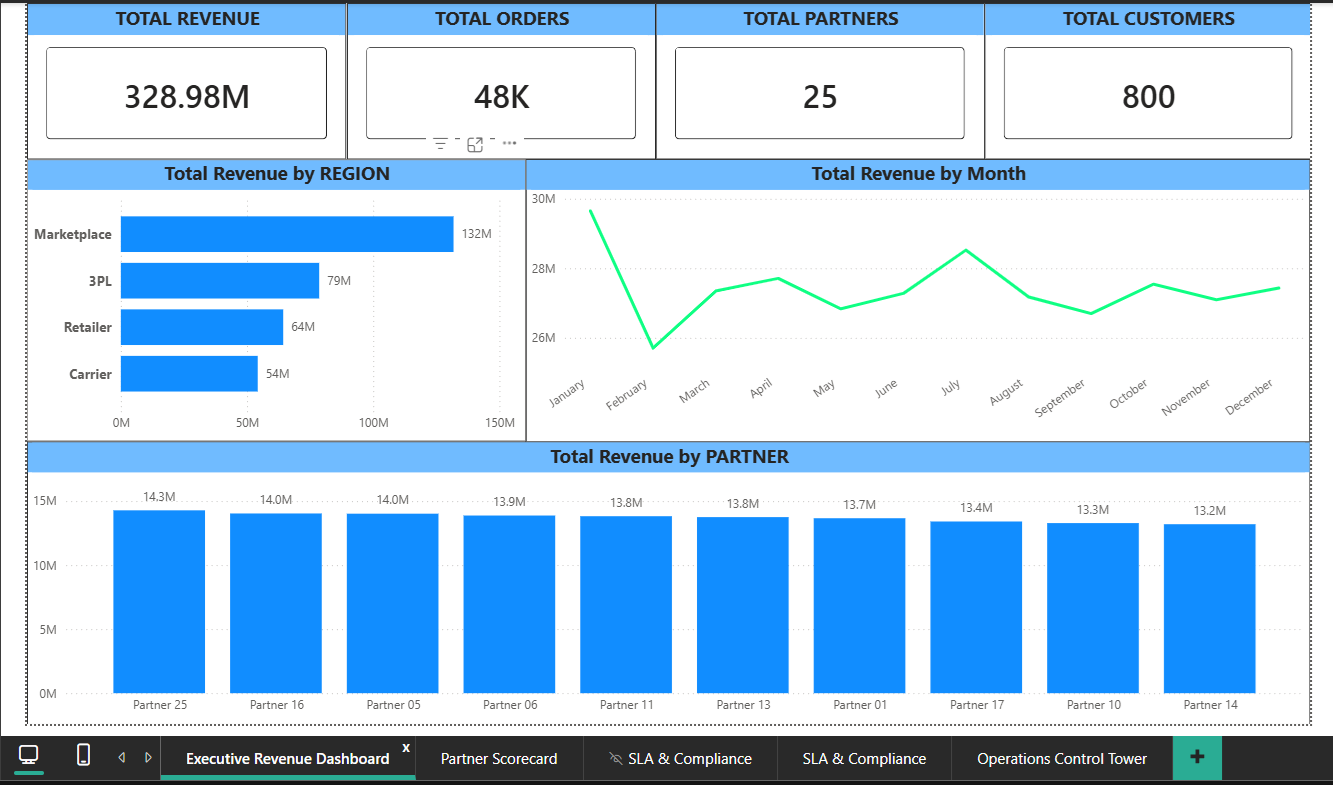

The dashboard page shown, as its layout file describes it:
{"tool":"powerbi","page":{"name":"Executive Revenue Dashboard","canvas":[1280,720],"ordinal":0},"visuals":[{"type":"cardVisual","title":"TOTAL REVENUE","fields":{"Data":["FACT_ORDERS.Total Revenue"]},"box":[0,0,318.8,155.8],"z":0},{"type":"cardVisual","title":"TOTAL ORDERS","fields":{"Data":["FACT_ORDERS.Measure"]},"box":[318.8,0,307.9,155.8],"z":1000},{"type":"cardVisual","title":"TOTAL PARTNERS","fields":{"Data":["DIM_PARTNERS (2).total_Partners"]},"box":[626.7,0,327.8,155.8],"z":2000},{"type":"cardVisual","title":"TOTAL CUSTOMERS","fields":{"Data":["DIM_CUSTOMERS.Customer_count"]},"box":[954.6,0,326,155.8],"z":3000},{"type":"clusteredBarChart","fields":{"Category":["DIM_PARTNERS (2).REGION"],"Y":["FACT_ORDERS.Total Revenue"]},"box":[0,155.6,497.5,282.2],"z":4000},{"type":"lineChart","fields":{"Y":["FACT_ORDERS.Total Revenue"],"Category":["FACT_ORDERS.ORDER_DATE.Variation.Date Hierarchy.Month"]},"box":[497.5,155.6,782.5,282.2],"z":5000},{"type":"clusteredColumnChart","title":"Total Revenue by PARTNER","fields":{"Y":["FACT_ORDERS.Total Revenue"],"Category":["DIM_PARTNERS (2).PARTNER_NAME"]},"box":[0,437.8,1280,282.2],"z":6000}]}

Visuals, with their boxes on the page's 1280x720 design canvas (x1, y1, x2, y2). These are canvas units, not pixel positions in the 1333x785 screenshot, which may show the page scaled, cropped or inside an application window:
"TOTAL REVENUE" cardVisual: bbox=(0, 0, 319, 156)
"TOTAL ORDERS" cardVisual: bbox=(319, 0, 627, 156)
"TOTAL PARTNERS" cardVisual: bbox=(627, 0, 954, 156)
"TOTAL CUSTOMERS" cardVisual: bbox=(955, 0, 1281, 156)
clusteredBarChart - DIM_PARTNERS (2).REGION x FACT_ORDERS.Total Revenue: bbox=(0, 156, 498, 438)
lineChart - FACT_ORDERS.Total Revenue x FACT_ORDERS.ORDER_DATE.Variation.Date Hierarchy.Month: bbox=(498, 156, 1280, 438)
"Total Revenue by PARTNER" clusteredColumnChart: bbox=(0, 438, 1280, 720)
